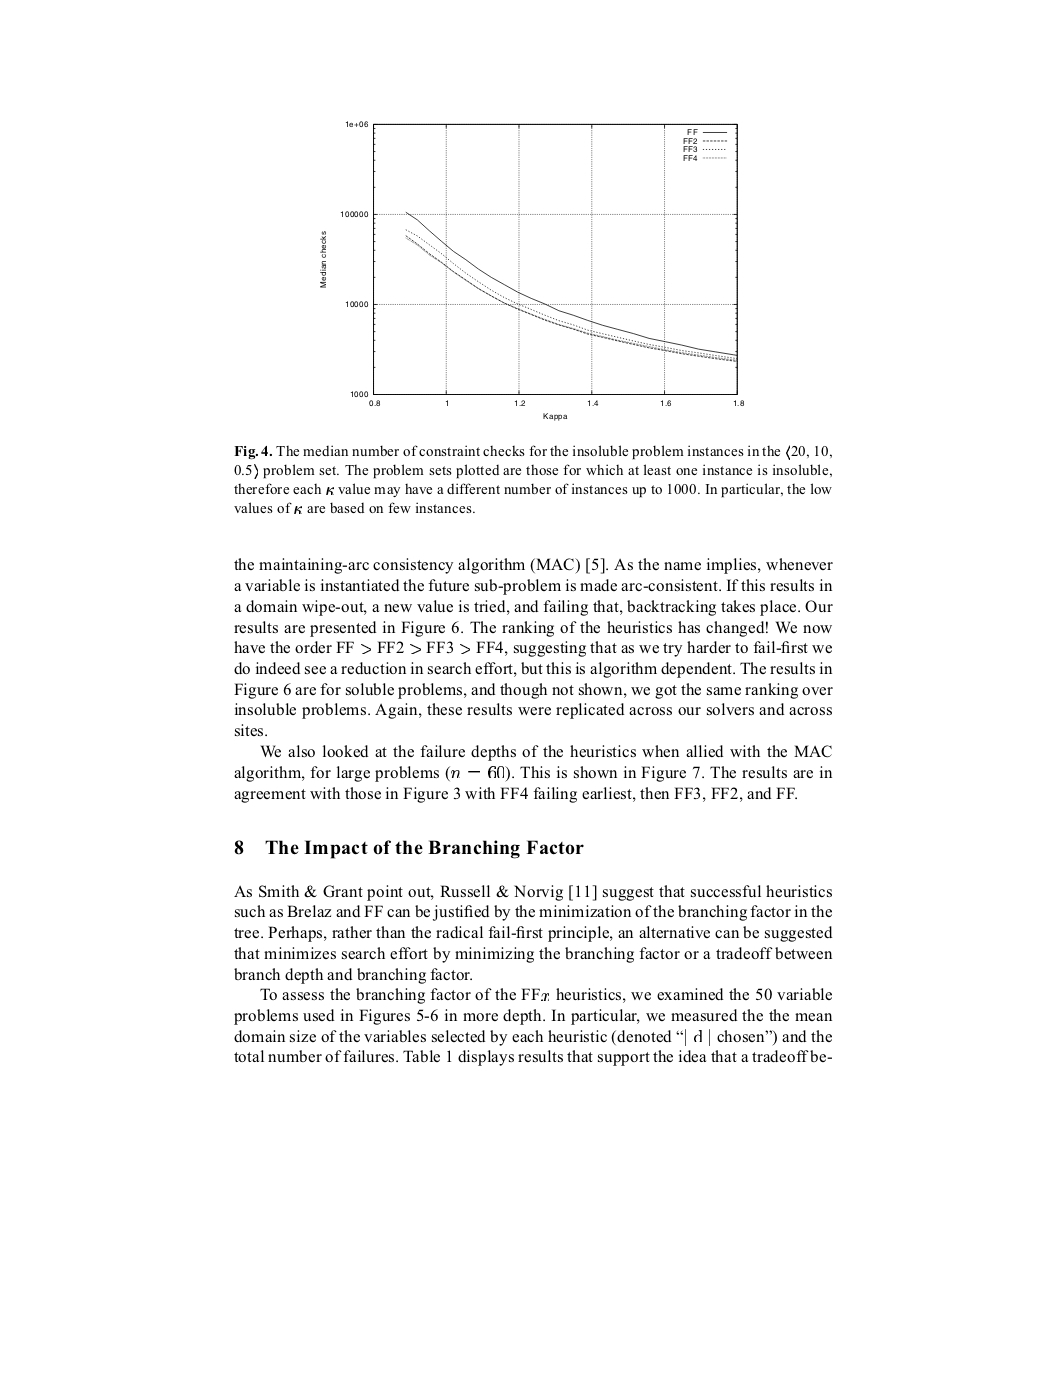figure: (320, 121, 743, 420)
